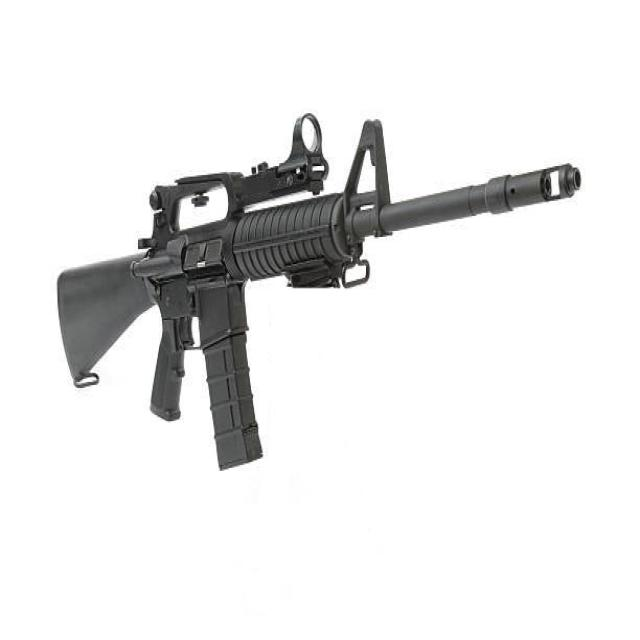rifle: (47, 101, 585, 492)
